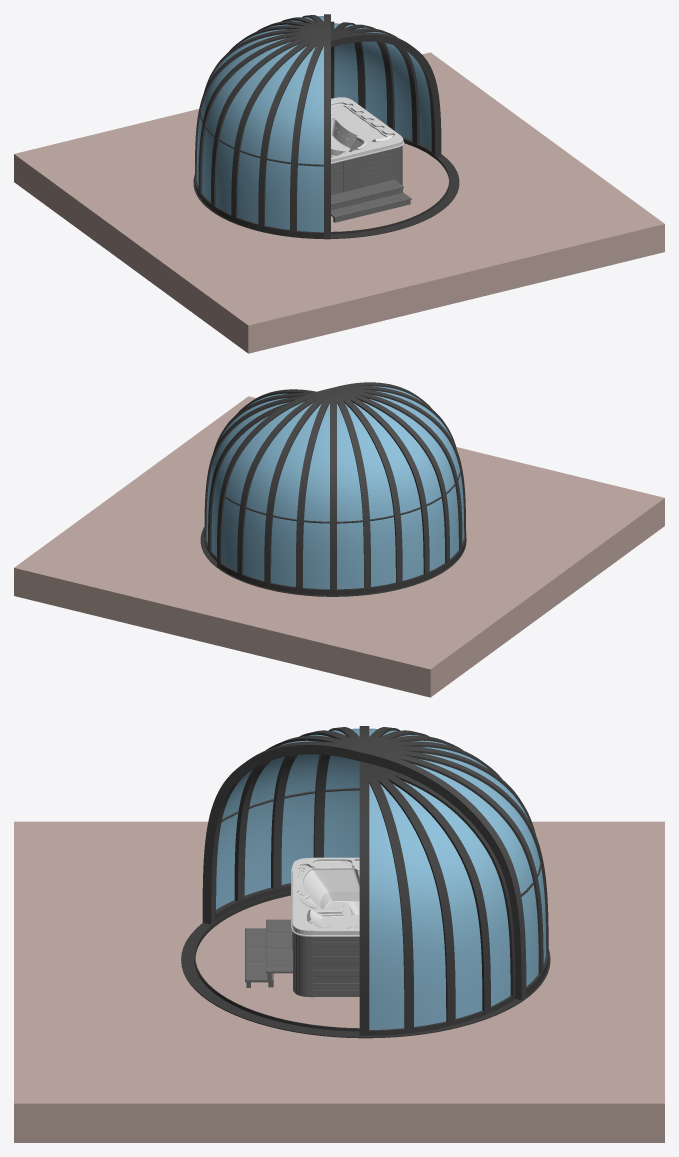
The picture shows the model from 3 angles, top to bottom: view 1: azimuth 30°, elevation 25°; view 2: azimuth 150°, elevation 25°; view 3: azimuth 270°, elevation 25°; orthographic projection. The views are drawn at different scales.
Parts seen in each view (by area): view 1: Box001, Line028, Line001, sub011, sub014, Circle001, Line025, sub013, Line026, Line024, Line027, Line023 (+5 smaller); view 2: Box001, Line028, Line001, Shape001, Line017, Line020, Line021, Line018, Line016, Line022, Line019, Line015 (+6 smaller); view 3: Box001, Line001, Line028, sub011, Line015, Circle001, sub013, Line027, Line016, Line026, Line025, sub014 (+6 smaller).
Part boxes in pixels (box(x1,y1,x2,y2)): Box001: box(14, 52, 664, 353); Line028: box(196, 16, 323, 232); Line001: box(331, 21, 441, 158); sub011: box(331, 97, 404, 163); sub014: box(331, 156, 411, 206); Circle001: box(193, 149, 459, 238); Line025: box(258, 32, 326, 230); sub013: box(354, 146, 402, 189); Line026: box(290, 33, 328, 236); Line024: box(231, 32, 326, 222); Line027: box(324, 32, 330, 239); Line023: box(211, 32, 325, 211); Box001: box(14, 396, 664, 697); Line028: box(222, 386, 464, 589); Line001: box(204, 389, 316, 561); Shape001: box(220, 531, 466, 595); Line017: box(264, 389, 332, 588); Line020: box(332, 390, 370, 593); Line021: box(334, 389, 402, 583); Line018: box(295, 390, 334, 588); Line016: box(237, 389, 332, 579); Line022: box(334, 389, 429, 574); Line019: box(330, 389, 336, 595); Line015: box(217, 388, 332, 568); Box001: box(14, 821, 664, 1142); Line001: box(359, 761, 515, 1035); Line028: box(216, 728, 546, 986); sub011: box(291, 857, 359, 936); Line015: box(362, 751, 526, 1000); Circle001: box(181, 891, 550, 1038); sub013: box(293, 933, 359, 997); Line027: box(202, 741, 363, 924); Line016: box(365, 750, 543, 973); Line026: box(234, 735, 363, 901); Line025: box(271, 730, 363, 889); sub014: box(245, 919, 292, 982).
Bounding box in the file's own units: 871 × 391 × 849.
